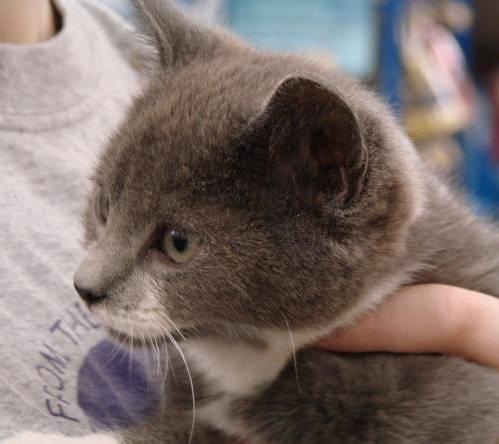cat: (74, 0, 498, 443)
